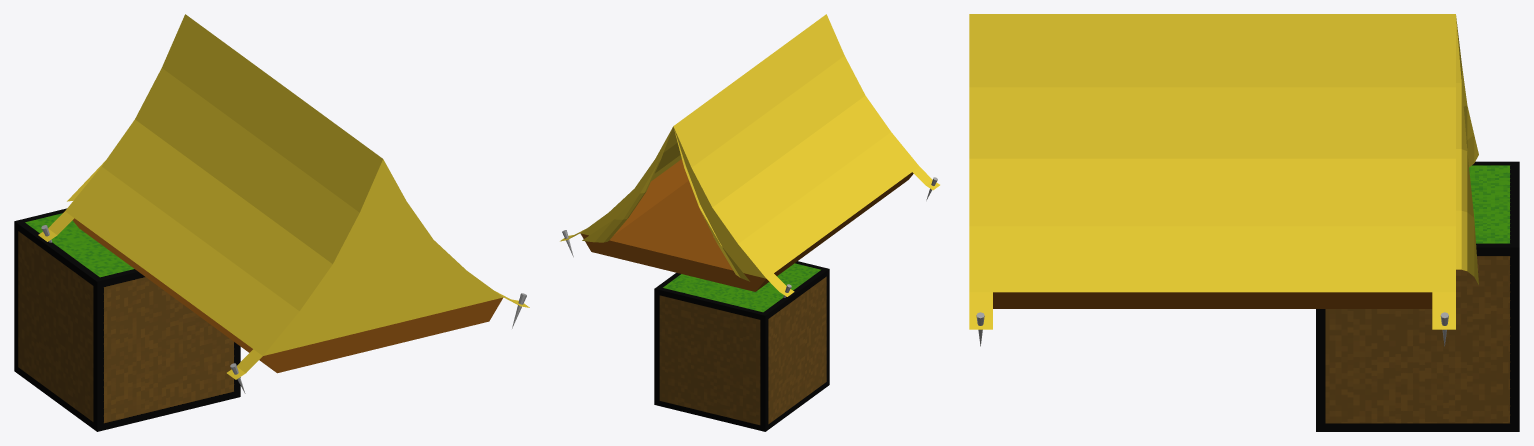
The model's file is TentNorthFacing.glb.
3 views of the same model, side by side, from view 1: azimuth 30°, elevation 25°; view 2: azimuth 150°, elevation 25°; view 3: azimuth 270°, elevation 25° (orthographic). The views are drawn at different scales.
Visible parts, largest first — view 1: Cube, Grass_v2Baked; view 2: Cube, Grass_v2Baked; view 3: Cube, Grass_v2Baked.
Boxes of the visible parts, x1=… form: Cube: x1=38, y1=14, x2=529, y2=393; Grass_v2Baked: x1=14, y1=208, x2=240, y2=431; Cube: x1=560, y1=14, x2=939, y2=297; Grass_v2Baked: x1=654, y1=261, x2=829, y2=431; Cube: x1=969, y1=14, x2=1478, y2=346; Grass_v2Baked: x1=1316, y1=161, x2=1519, y2=431.
Bounding box in the file's own units: 2.02 × 2.23 × 2.65.
Materials: 4 (1 with a texture image).
